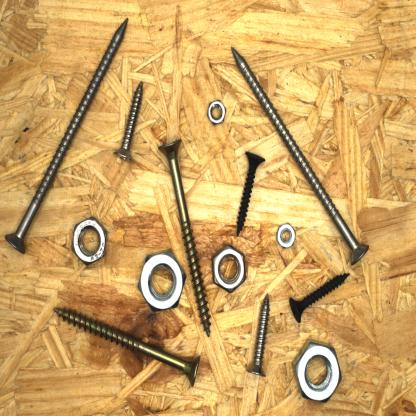screw: (229, 44, 372, 268), (2, 15, 130, 259), (51, 304, 207, 391), (151, 137, 213, 342), (287, 269, 352, 326), (232, 148, 268, 240), (111, 78, 146, 164), (243, 289, 273, 380)
